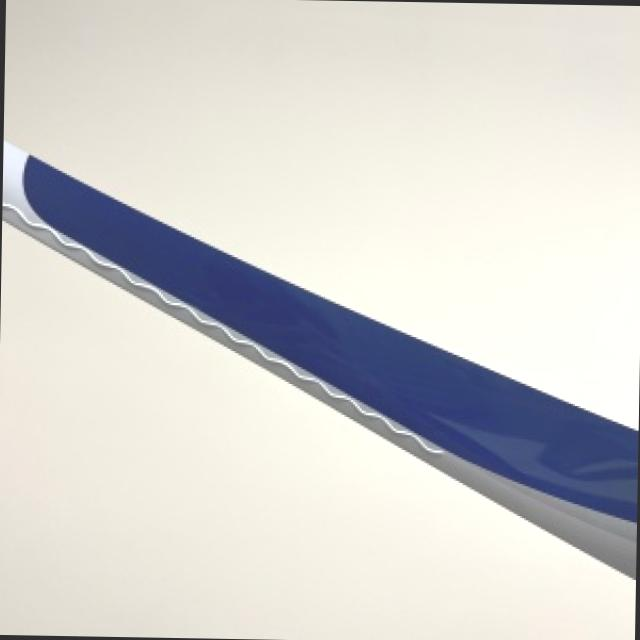healthy: (2, 142, 636, 575), (0, 248, 633, 640)
